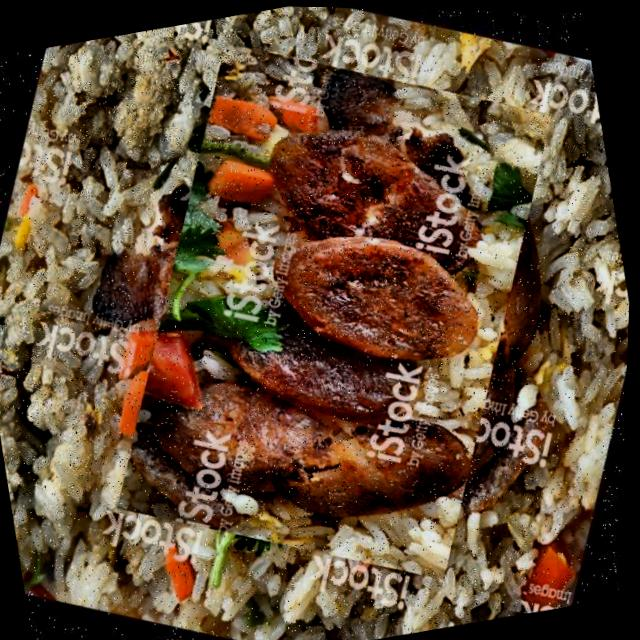Food: (18, 1, 640, 625)
